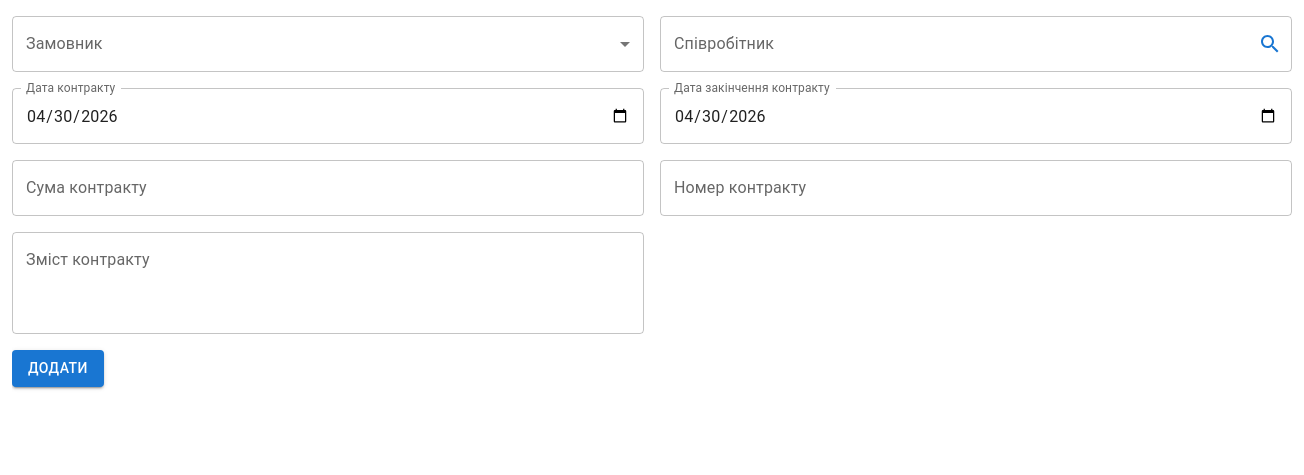
Scenario: ContractForm › shows validation errors on submit with invalid data
Click the button "Додати".
click(58, 368)  # box [12,350,104,386]
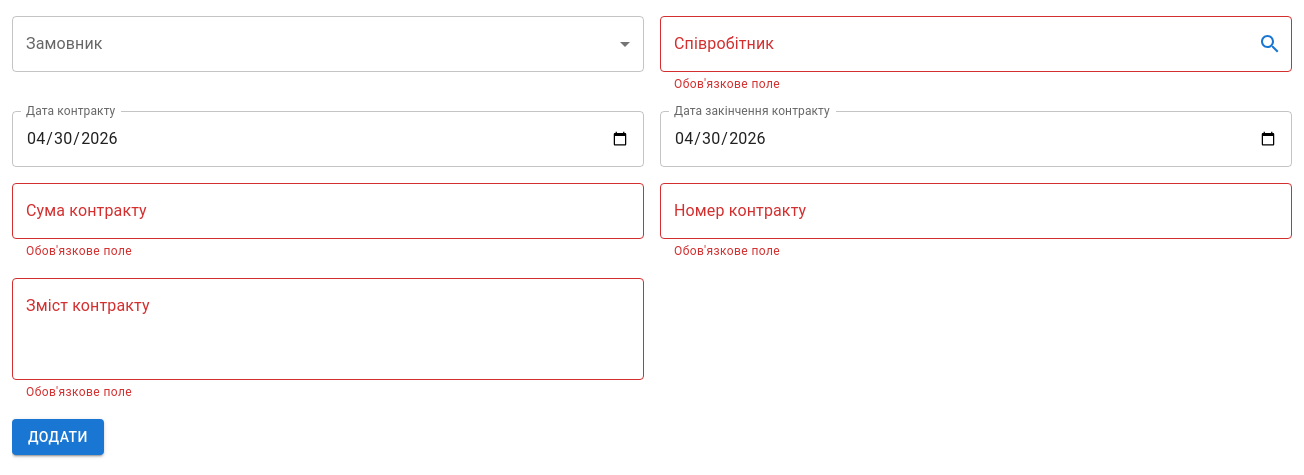
Result: the text "Обов'язкове поле" below "Співробітник" is shown at [674,77,780,91]
